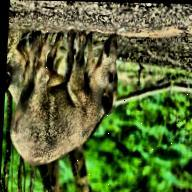boar: (7, 11, 143, 175)
